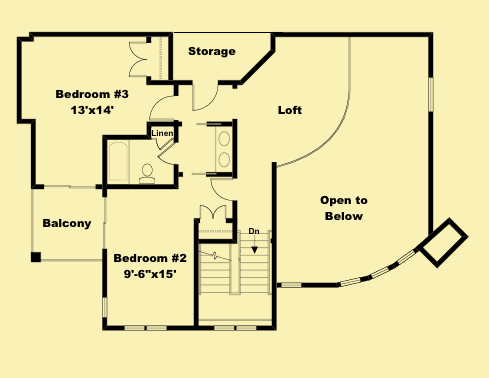door: (188, 82, 220, 112), (127, 40, 151, 77), (148, 93, 178, 121), (210, 175, 235, 202), (199, 203, 231, 223), (157, 138, 178, 167)
large_sink: (137, 160, 156, 185)
small_sink: (216, 125, 233, 173)
stairs: (195, 230, 272, 298)
tub: (103, 140, 132, 188)
window: (120, 324, 170, 332), (212, 325, 256, 332), (279, 279, 304, 290), (428, 75, 435, 113), (100, 296, 107, 320)
